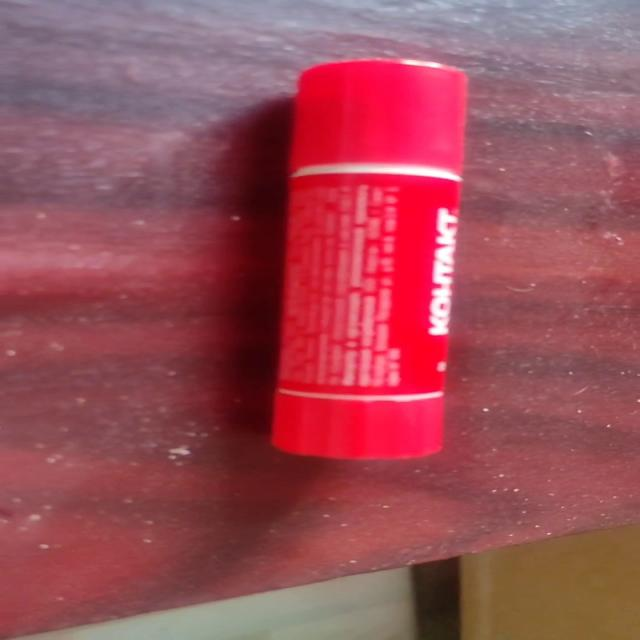glue: (270, 56, 468, 460)
